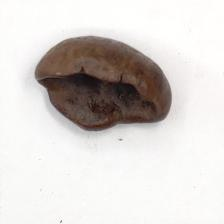NG: (35, 63, 167, 132)
